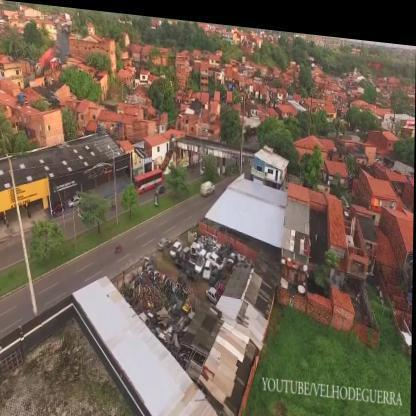lixo: (126, 263, 191, 334), (172, 233, 232, 279)
